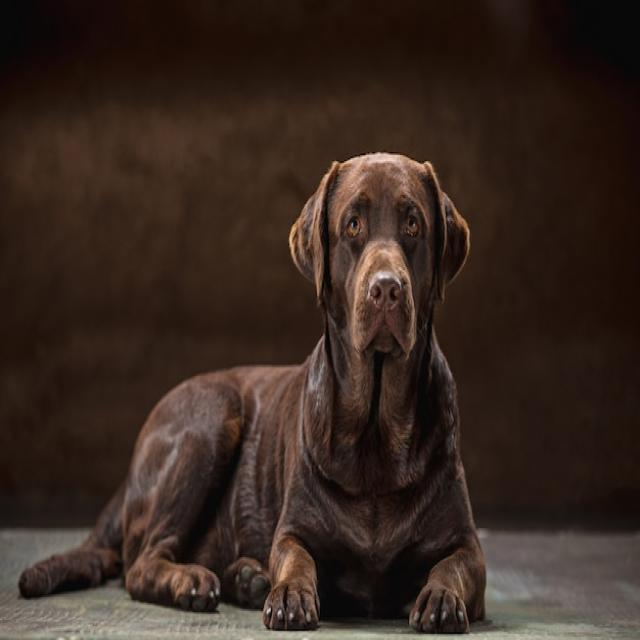Dog: (17, 156, 487, 632)
